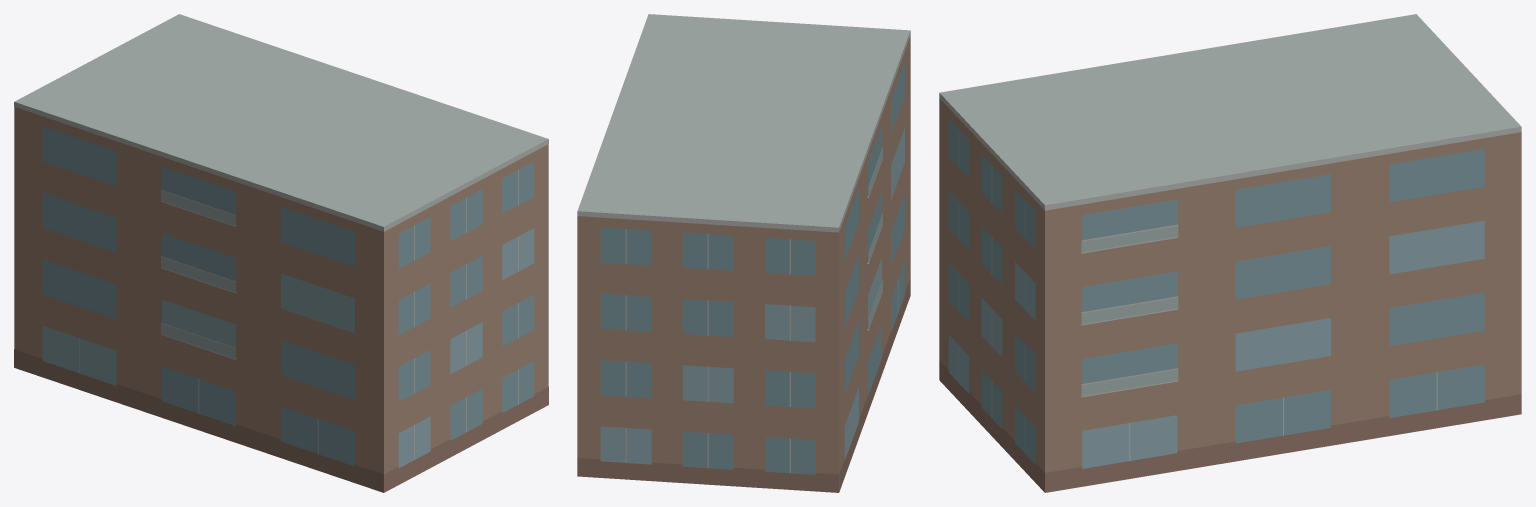
The model's file is survey-upis-33025719.glb.
3 views of the same model, side by side, from view 1: azimuth 30°, elevation 25°; view 2: azimuth 150°, elevation 25°; view 3: azimuth 270°, elevation 25° (orthographic). The views are drawn at different scales.
Parts seen in each view (by area): view 1: survey-upis-33025719.tmp; view 2: survey-upis-33025719.tmp; view 3: survey-upis-33025719.tmp.
Part boxes in pixels (<box>): survey-upis-33025719.tmp: <box>14,14,548,492</box>; survey-upis-33025719.tmp: <box>577,14,910,492</box>; survey-upis-33025719.tmp: <box>939,14,1521,492</box>.
Size of the model in its own units: 18.86 by 13.2 by 24.24.
